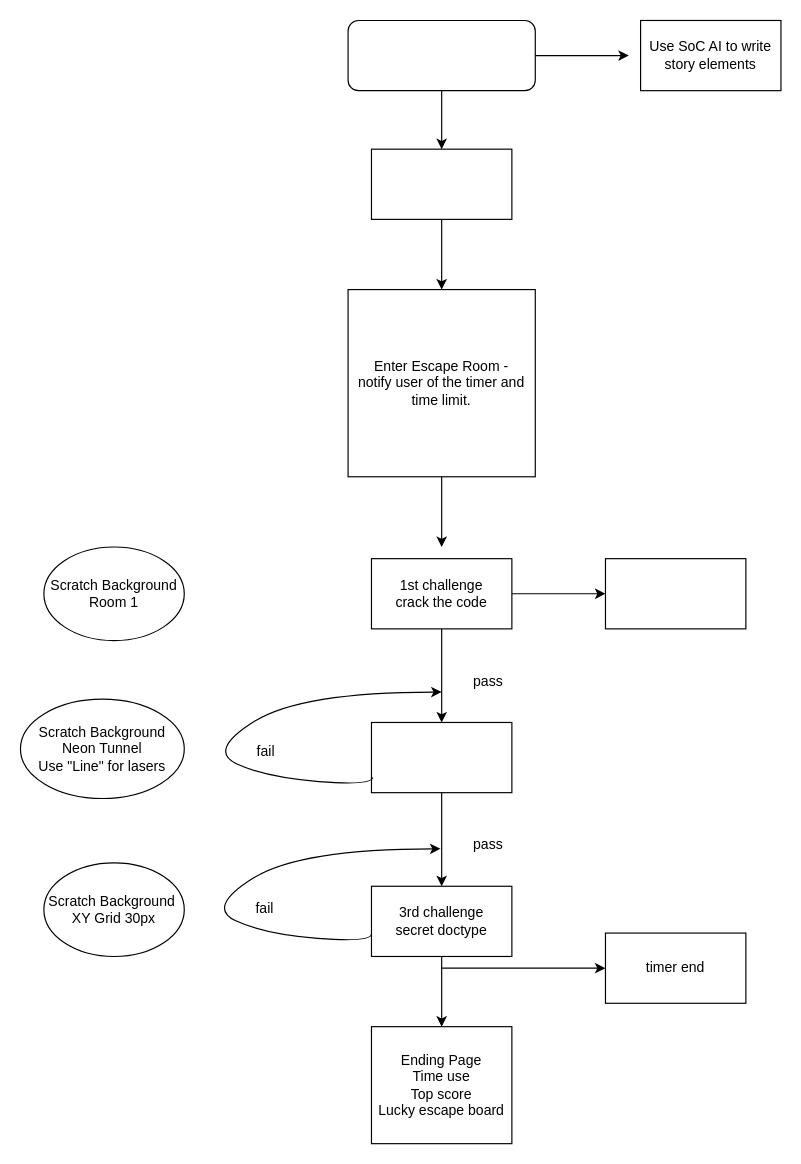
The diagram is 801 pixels wide and 1164 high, and some of its shapes have lost their labels. Each missing label, with the box of its shape:
2nd challenge laser maze: (370, 721, 512, 793)
timer start: (604, 558, 746, 629)
User Interaction in Code take username / team name: (370, 148, 512, 219)
Welcome Page (story): (347, 19, 535, 91)
